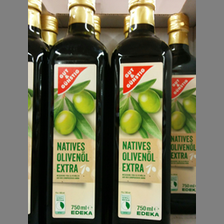oil: (44, 1, 108, 224), (111, 1, 172, 224)
